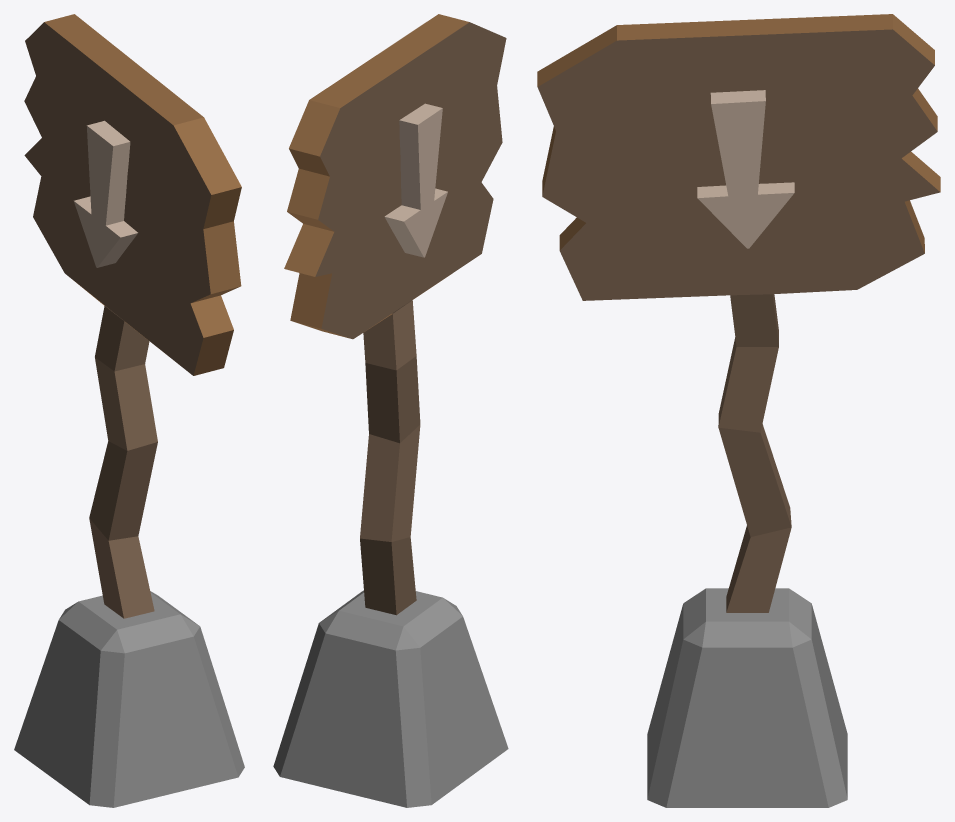
File: Sign-Down.fbx
3 renders of one model, left to right at view 1: azimuth 30°, elevation 25°; view 2: azimuth 150°, elevation 25°; view 3: azimuth 270°, elevation 25°, orthographic. The views are drawn at different scales.
Parts seen in each view (by area): view 1: Cube, Cube.001; view 2: Cube, Cube.001; view 3: Cube, Cube.001.
Part boxes in pixels (x1,y1,x2,y2): Cube: (14,14,244,807); Cube.001: (74,120,137,267); Cube: (273,14,508,807); Cube.001: (384,103,447,257); Cube: (537,14,940,807); Cube.001: (697,90,794,248).
Size of the model in its own units: 34.6 by 147 by 72.25.
